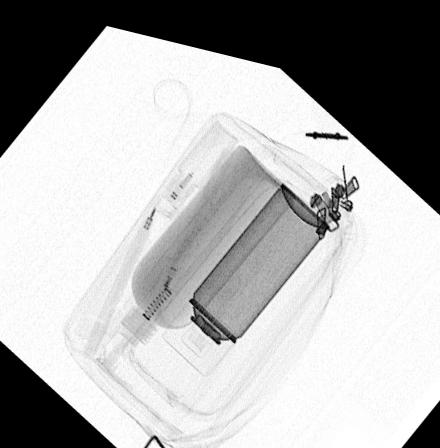Sprayer: (158, 165, 332, 367)
